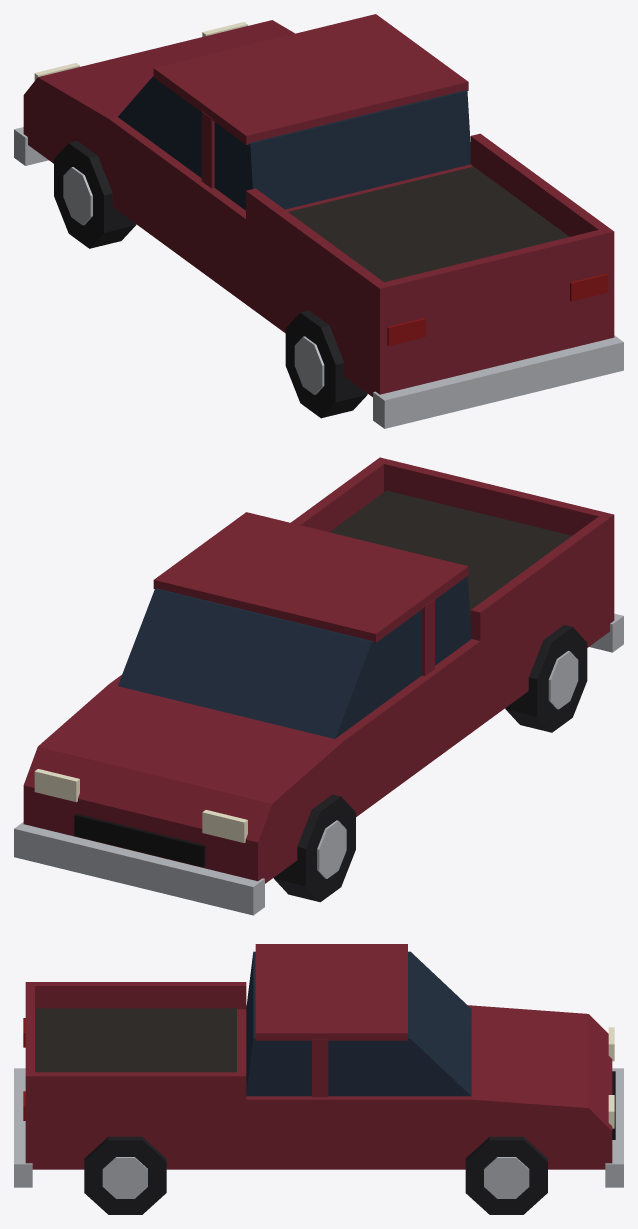
The model's file is CarPickupMaroon.obj.
3 renders of one model, top to bottom at view 1: azimuth 30°, elevation 25°; view 2: azimuth 150°, elevation 25°; view 3: azimuth 270°, elevation 25°, orthographic. The views are drawn at different scales.
Visible parts, largest first — view 1: CarPickupMaroon; view 2: CarPickupMaroon; view 3: CarPickupMaroon.
Part boxes in pixels (left/top/right/bottom): CarPickupMaroon: left=14, top=14, right=623, bottom=428; CarPickupMaroon: left=14, top=457, right=623, bottom=915; CarPickupMaroon: left=14, top=944, right=623, bottom=1214.
Size of the model in its own units: 2.07 by 1.65 by 5.2.
Materials: 1 (1 with a texture image).
